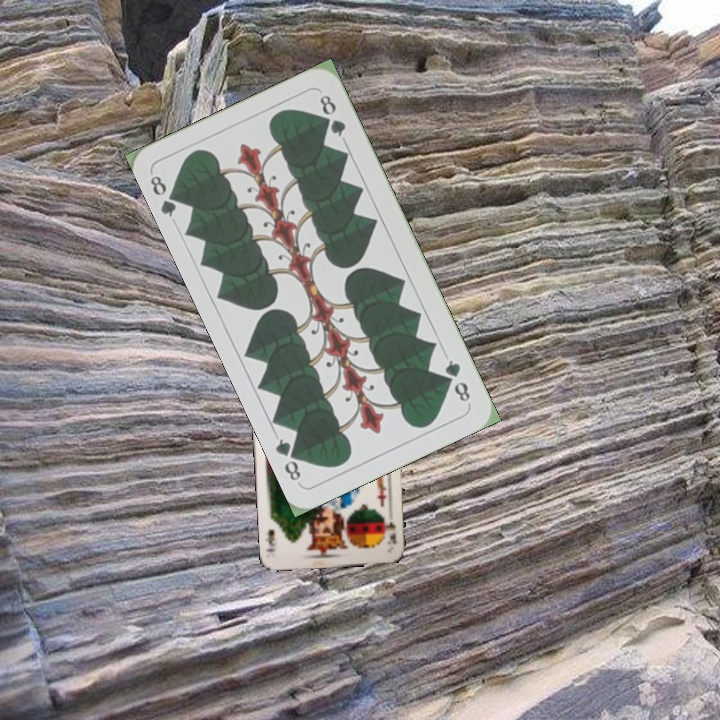G8: (145, 171, 184, 220), (441, 355, 473, 405)
SK: (381, 512, 400, 547)
